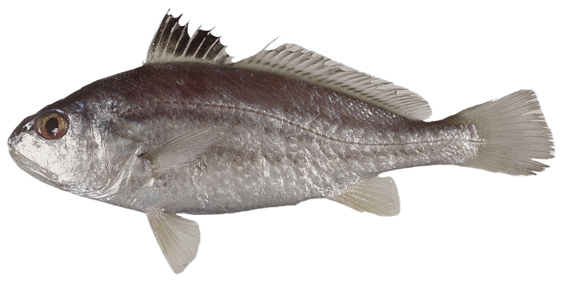fish: (6, 8, 556, 274)
